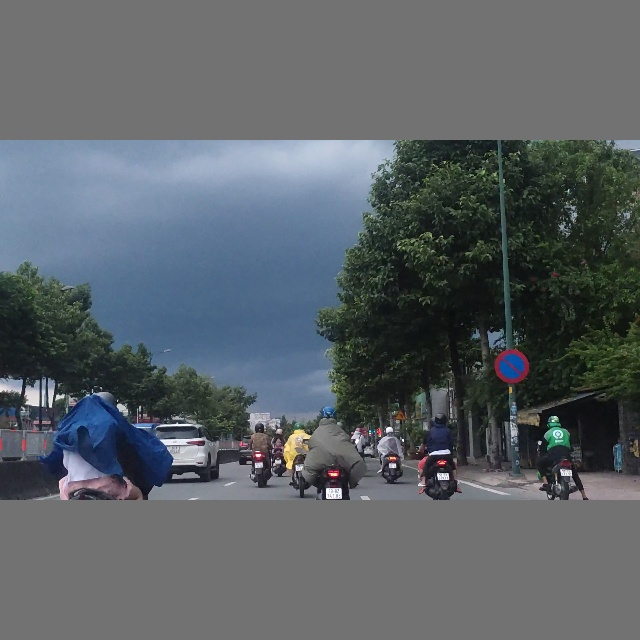P.131a: (495, 349, 529, 384)
W.201a: (394, 410, 407, 420)
